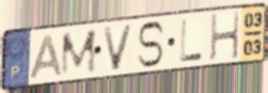A: (28, 32, 64, 81)
H: (209, 9, 241, 63)
L: (179, 19, 205, 64)
M: (59, 27, 98, 79)
S: (135, 20, 167, 70)
V: (100, 23, 136, 73)
